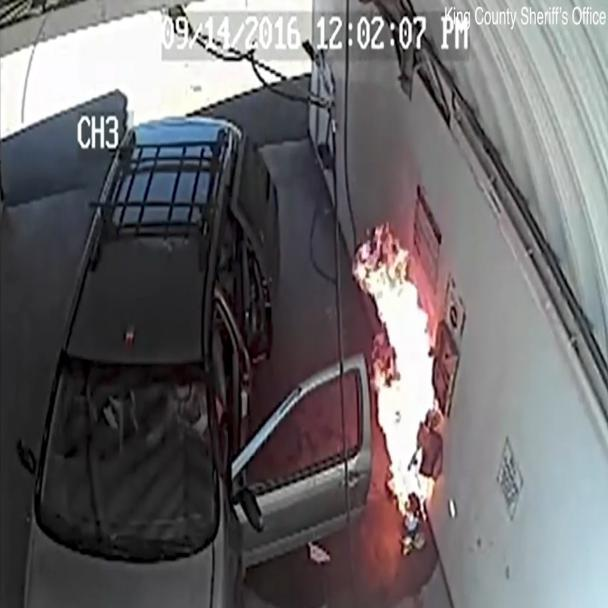Fire: (343, 129, 468, 539)
